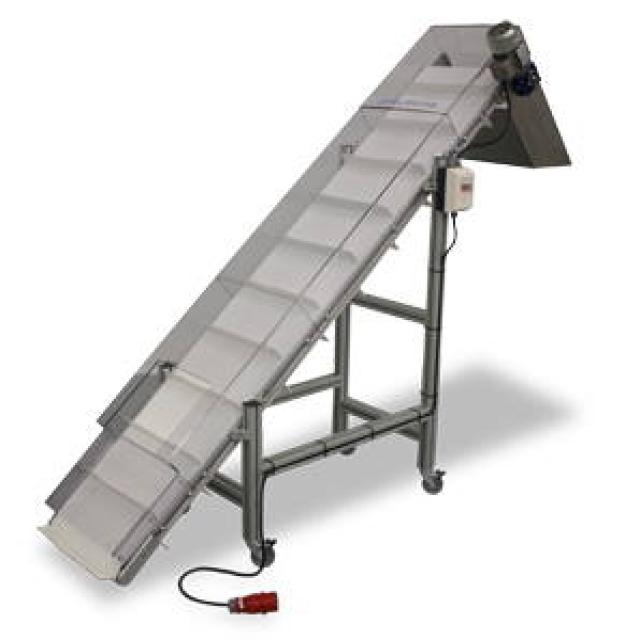conveyor: (26, 12, 590, 614)
